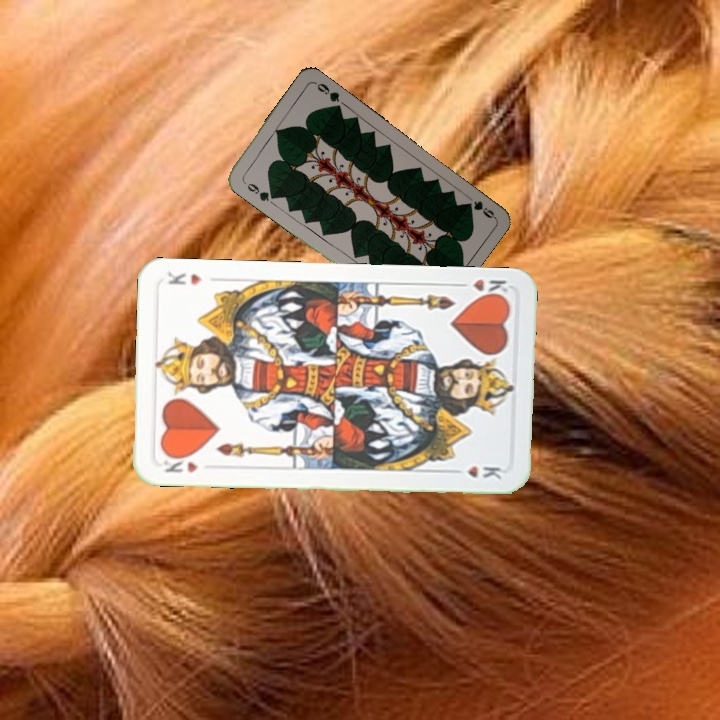G9: (239, 176, 276, 204), (462, 197, 497, 221)
HK: (452, 275, 511, 301), (160, 451, 201, 475)
